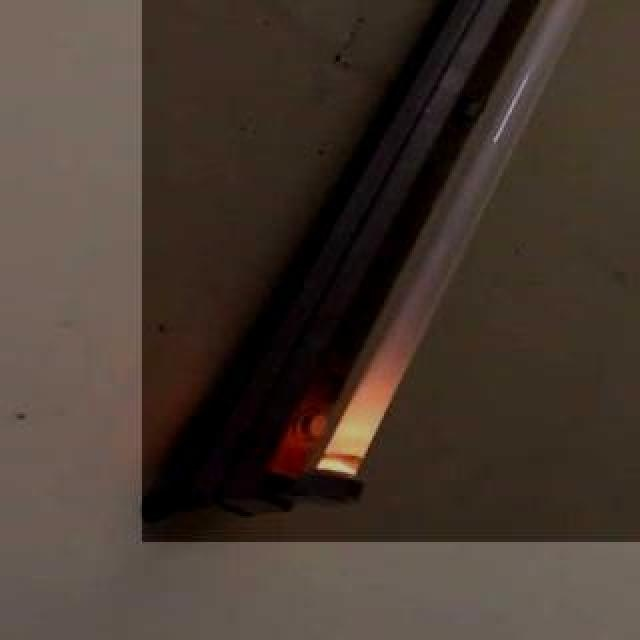fluorescent tube: (220, 0, 640, 522)
